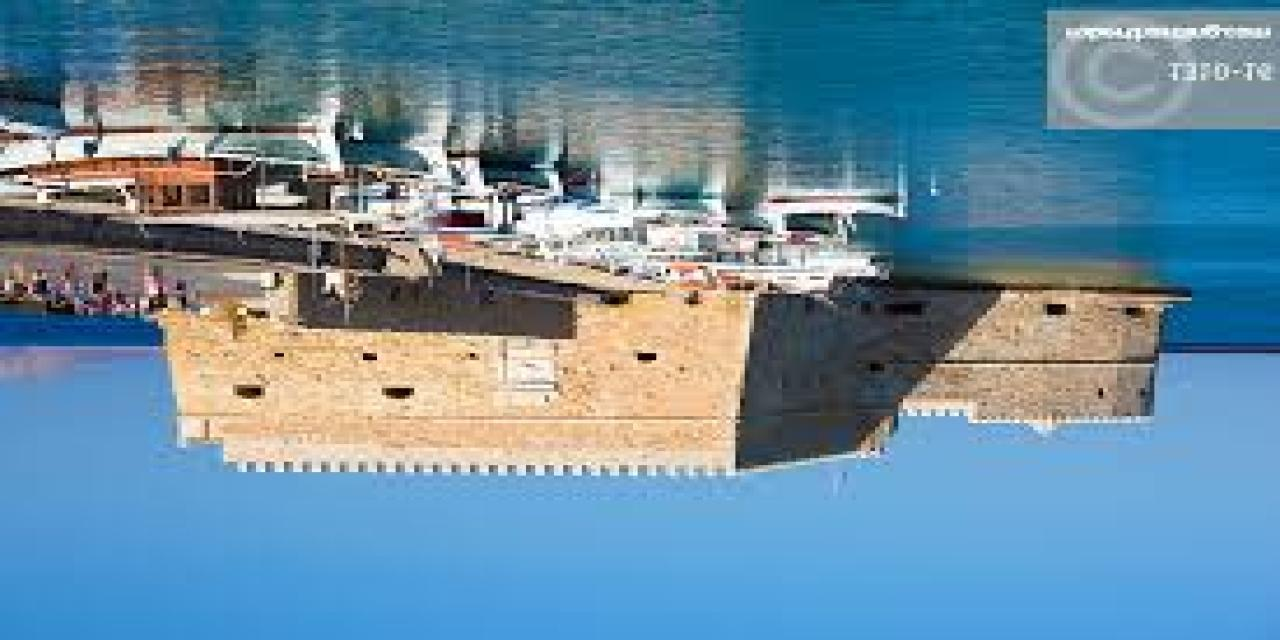Kules: (165, 287, 1195, 496)
